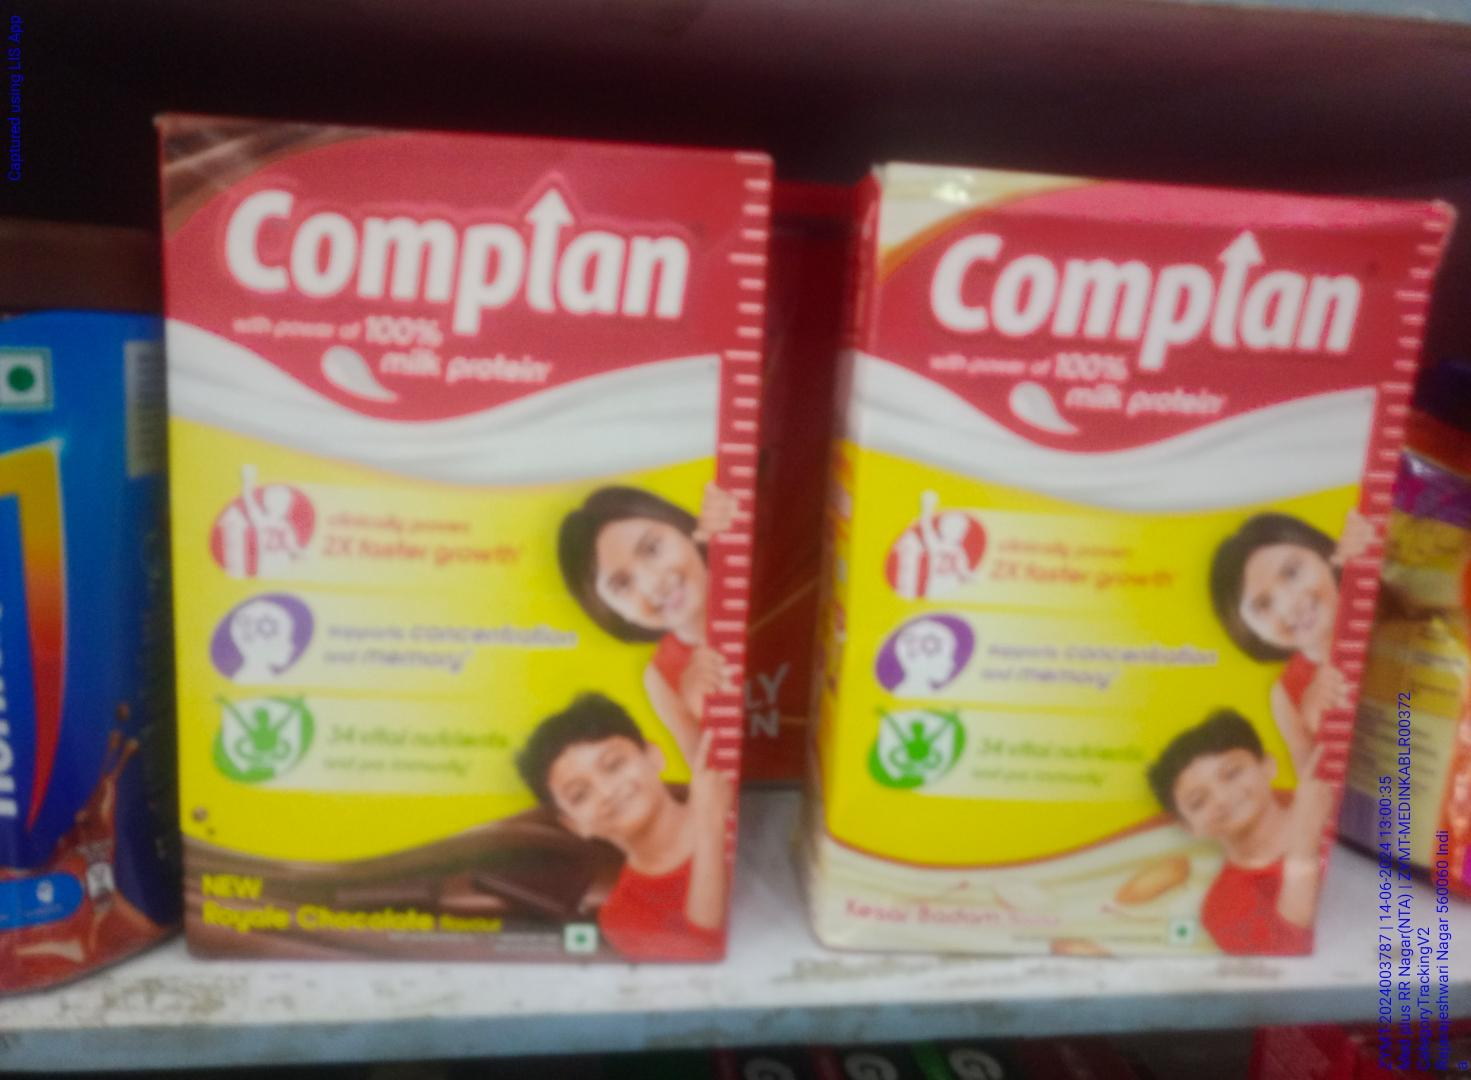COMPLAN_CHOCOLATE_500_GMS_PACK: (158, 103, 732, 959)
COMPLAN_KESAR_BADAM_500_GMS_PACK: (847, 166, 1328, 956)
